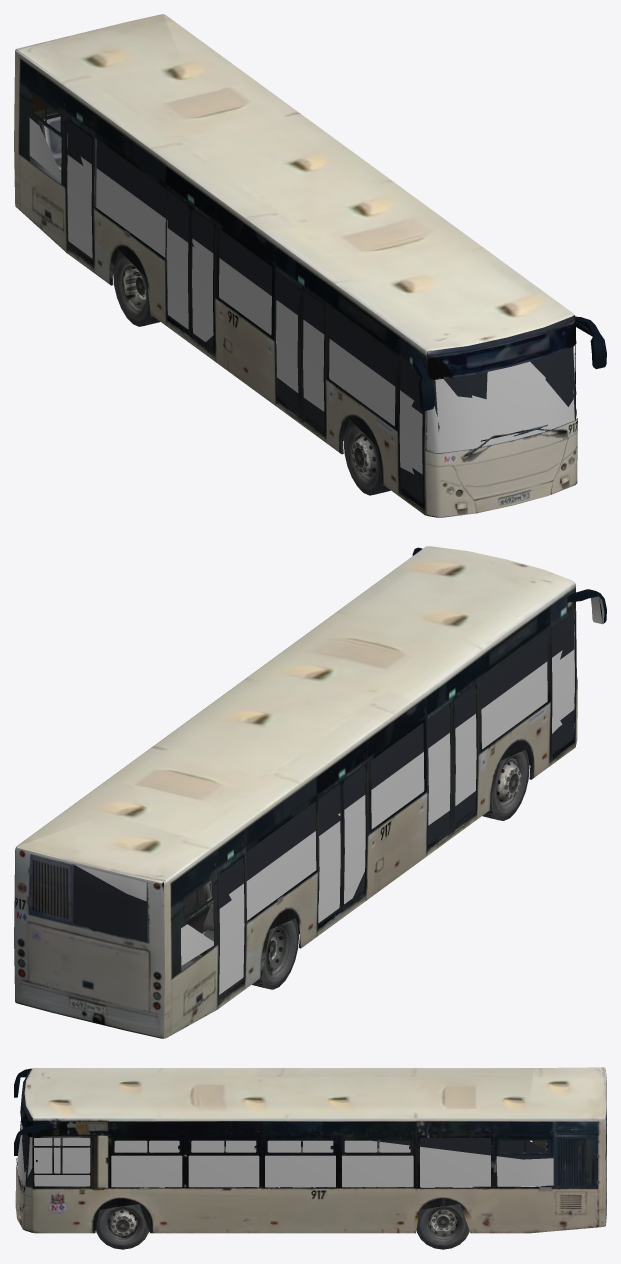
Rendered from bus.glb.
3 renders of one model, top to bottom at view 1: azimuth 30°, elevation 25°; view 2: azimuth 150°, elevation 25°; view 3: azimuth 270°, elevation 25°, orthographic. The views are drawn at different scales.
Parts seen in each view (by area): view 1: kit0, kit1, far, glass1, glass0; view 2: kit0, kit1, far, glass1, glass0; view 3: kit0, kit1, glass1, far, glass0.
Boxes of the visible parts, box(x1,y1,x2,y2) form: kit0: box(14, 14, 606, 517); kit1: box(14, 14, 604, 509); far: box(14, 16, 606, 516); glass1: box(29, 117, 457, 474); glass0: box(67, 148, 575, 474); kit0: box(14, 546, 606, 1038); kit1: box(14, 551, 602, 1031); far: box(15, 547, 604, 1038); glass1: box(181, 624, 574, 979); glass0: box(75, 613, 574, 994); kit0: box(14, 1067, 606, 1249); kit1: box(17, 1067, 605, 1238); glass1: box(34, 1138, 553, 1186); far: box(16, 1068, 606, 1249); glass0: box(17, 1122, 32, 1185).
Size of the model in its own units: 3.06 by 3.03 by 12.27.
Materials: 1 (1 with a texture image).
